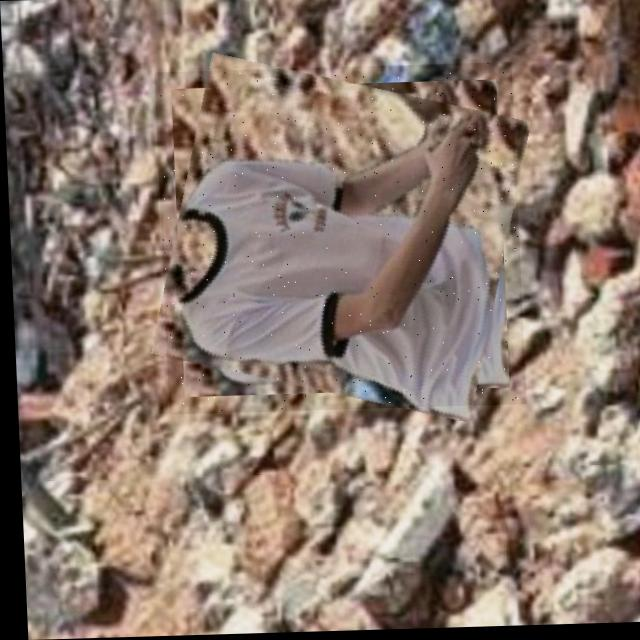Person in Rubble: (154, 64, 523, 414)
